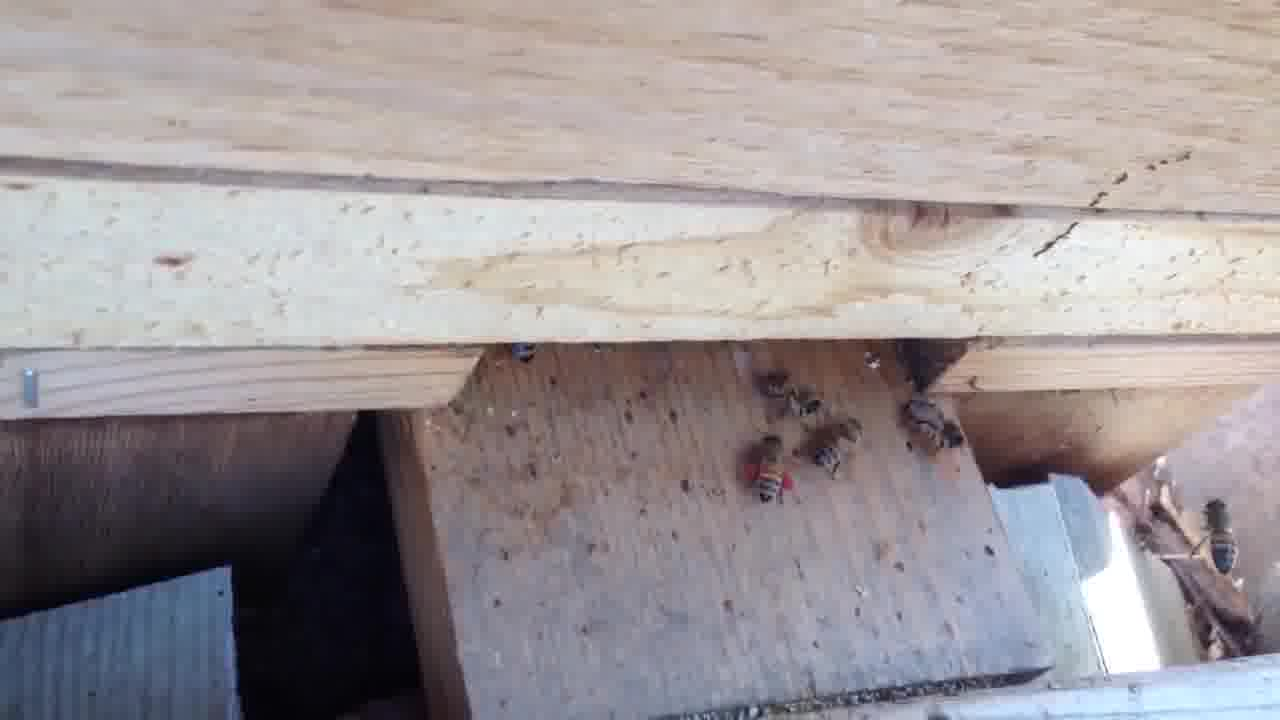pollen: (739, 425, 803, 508)
